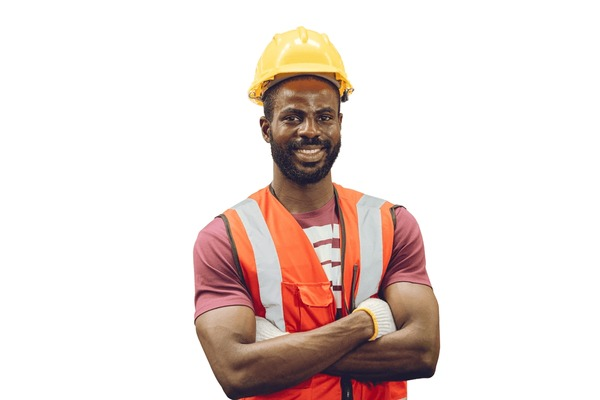cap: (206, 24, 375, 100)
jacket: (199, 175, 417, 400)
